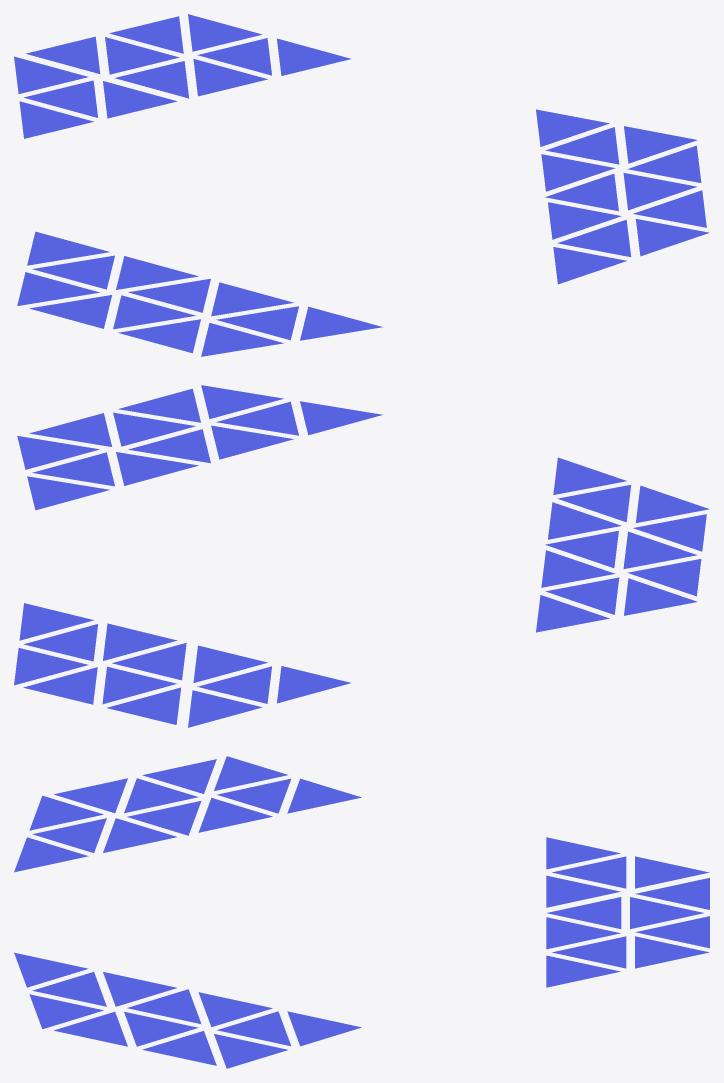
Rendered from Testarenafloor2.glb.
3 renders of one model, top to bottom at view 1: azimuth 30°, elevation 25°; view 2: azimuth 150°, elevation 25°; view 3: azimuth 270°, elevation 25°, orthographic. The views are drawn at different scales.
Visible parts, largest first — view 1: Object_28.001, Object_29.001, Object_27.001, Object_26.001, Object_25.002, Object_23.002, Object_21.002, Object_19.002, Object_6.002, Object_22.002, Object_20.002, Object_18.002 (+24 smaller); view 2: Object_16.001, Object_17.001, Object_15.001, Object_9.002, Object_7.002, Object_14.001, Object_13.002, Object_11.002, Object_8.002, Object_6.002, Object_3.001, Object_26.001 (+24 smaller); view 3: Object_1.002, Object_37.002, Object_33.002, Object_8.002, Object_6.002, Object_27.001, Object_25.002, Object_22.002, Object_20.002, Object_18.002, Object_15.001, Object_13.002 (+24 smaller).
Part boxes in pixels (bbox=[...]): Object_28.001: bbox=[27, 231, 109, 265]; Object_29.001: bbox=[32, 255, 114, 289]; Object_27.001: bbox=[17, 272, 99, 305]; Object_26.001: bbox=[116, 256, 198, 289]; Object_25.002: bbox=[216, 306, 298, 340]; Object_23.002: bbox=[211, 282, 293, 316]; Object_21.002: bbox=[29, 295, 111, 328]; Object_19.002: bbox=[118, 319, 200, 353]; Object_6.002: bbox=[623, 172, 696, 210]; Object_22.002: bbox=[300, 306, 382, 340]; Object_20.002: bbox=[128, 278, 210, 312]; Object_18.002: bbox=[113, 295, 195, 329]; Object_16.001: bbox=[27, 476, 109, 510]; Object_17.001: bbox=[32, 452, 114, 486]; Object_15.001: bbox=[17, 436, 99, 469]; Object_9.002: bbox=[29, 413, 111, 446]; Object_7.002: bbox=[118, 388, 200, 422]; Object_14.001: bbox=[116, 452, 198, 485]; Object_13.002: bbox=[216, 401, 298, 435]; Object_11.002: bbox=[211, 425, 293, 459]; Object_8.002: bbox=[128, 429, 210, 463]; Object_6.002: bbox=[113, 412, 195, 446]; Object_3.001: bbox=[23, 667, 97, 704]; Object_26.001: bbox=[541, 550, 615, 587]; Object_1.002: bbox=[547, 897, 621, 928]; Object_37.002: bbox=[552, 936, 626, 968]; Object_33.002: bbox=[552, 856, 626, 888]; Object_8.002: bbox=[127, 989, 201, 1024]; Object_6.002: bbox=[124, 1011, 198, 1046]; Object_27.001: bbox=[214, 756, 287, 790]; Object_25.002: bbox=[32, 818, 106, 852]; Object_22.002: bbox=[14, 837, 88, 872]; Object_20.002: bbox=[127, 800, 201, 835]; Object_18.002: bbox=[124, 778, 198, 813]; Object_15.001: bbox=[214, 1034, 287, 1068]; Object_13.002: bbox=[32, 972, 106, 1006].
Bounding box in the file's own units: 161 × 8.4e-05 × 151.
